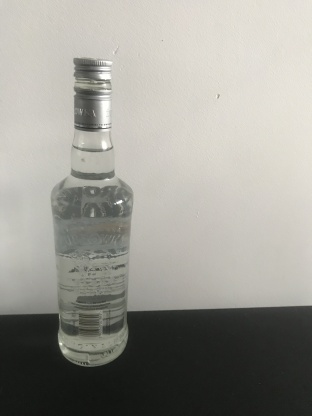nakretka: (71, 53, 113, 132)
